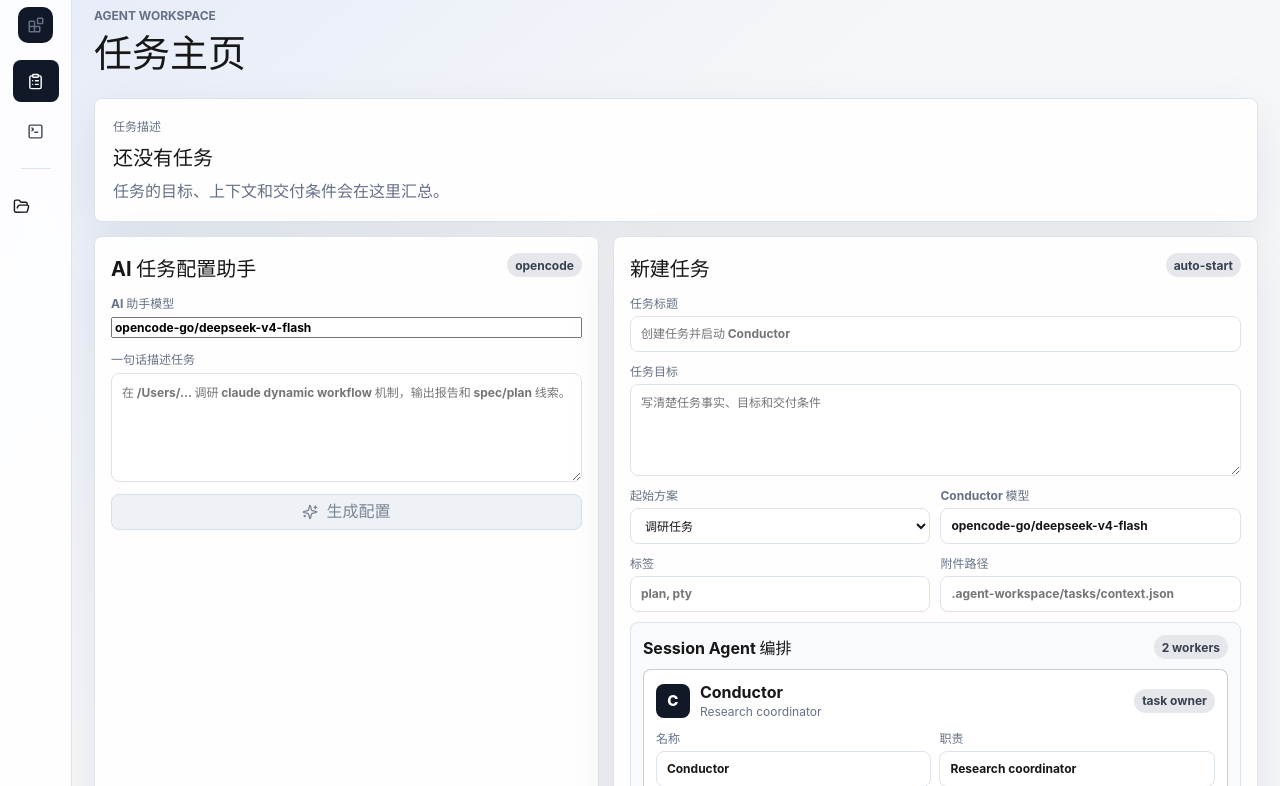
Test: App information architecture › records Task Home composer messages in the backend task runtime state and refreshes the conversation
Step 1. Type "连接 Task execution backend" into the field labelled "任务标题" → (935, 334), box [630,316,1241,352]
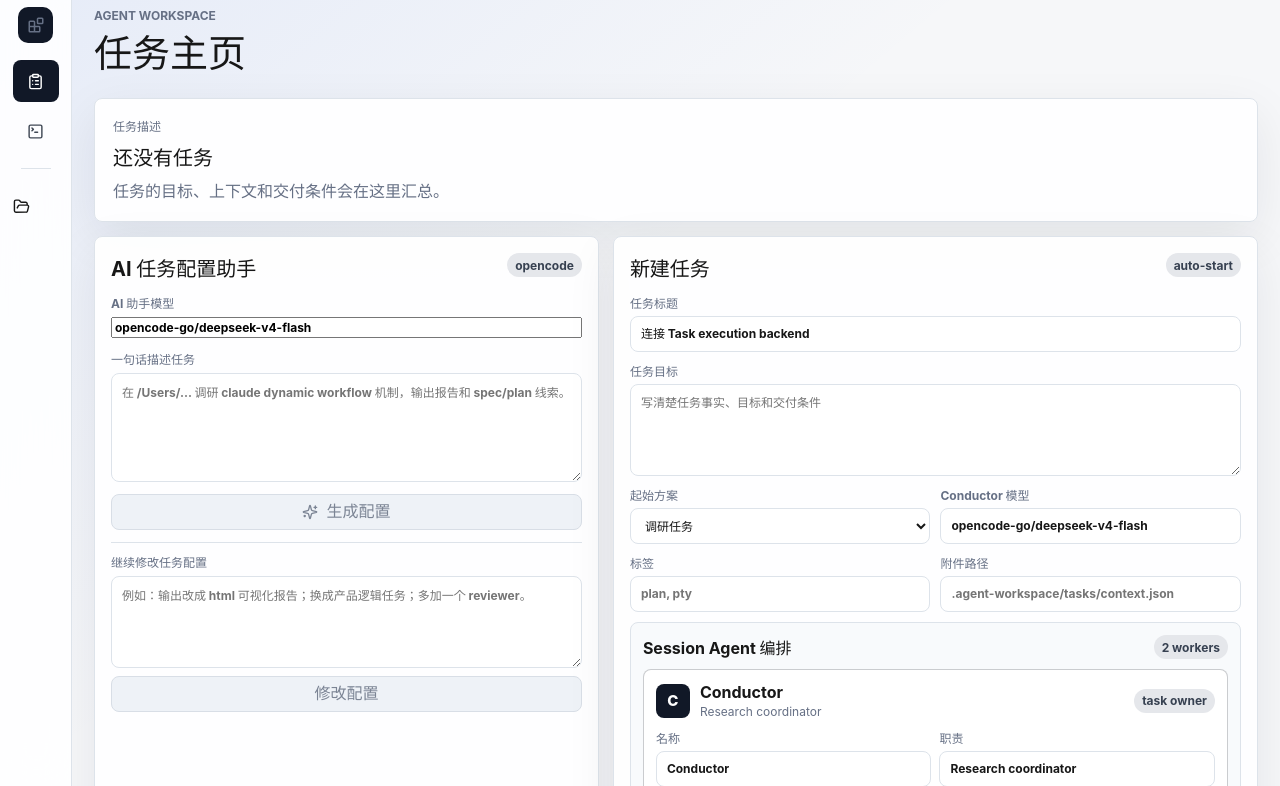
Step 2. Type "页面必须从 Session Store 读取执行事件，并把用户纠偏写回 Conductor。" into the text box labelled "任务目标" → (935, 430), box [630,384,1241,476]
Step 3. Select "代码实现任务" in the dropdown labelled "起始方案" → (780, 526), box [630,508,930,544]
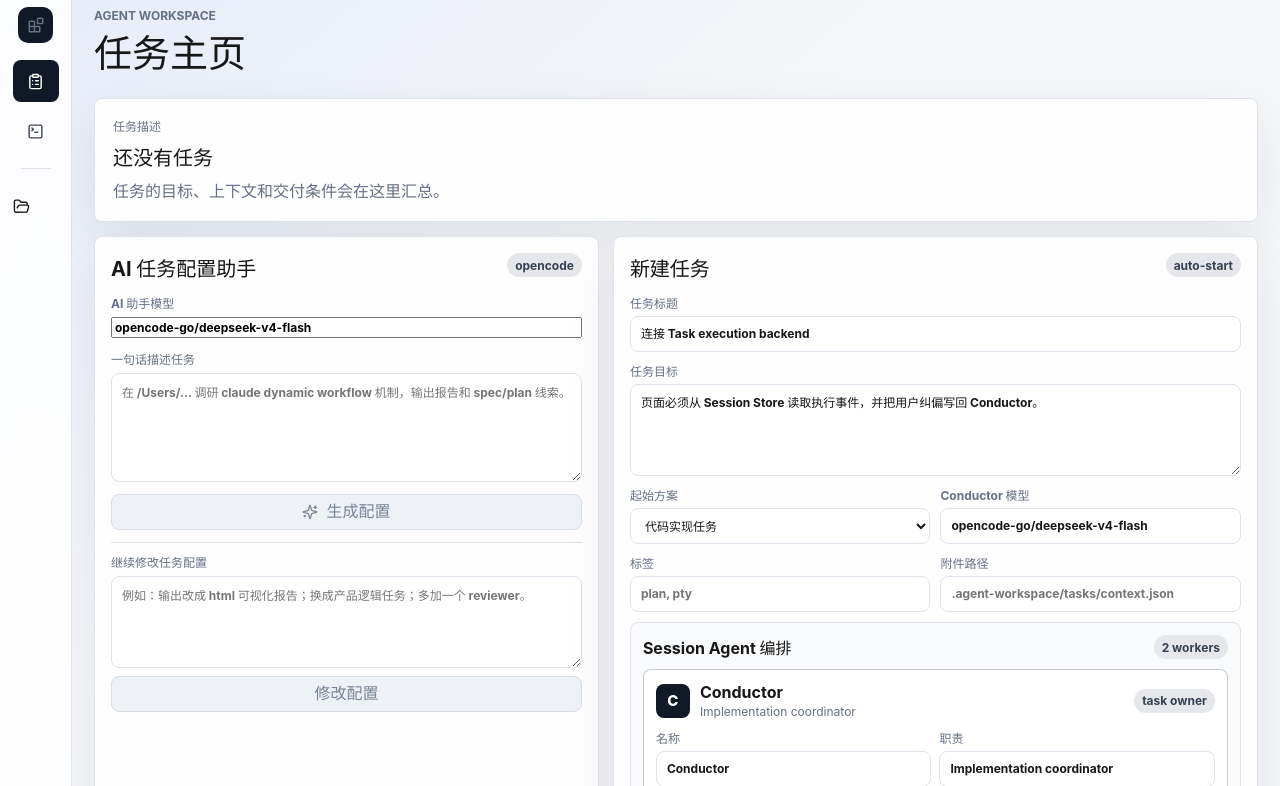
Step 4. Type "runtime, opencode" into the field named "任务标签" → (780, 594), box [630,576,930,612]
(page scrolled)
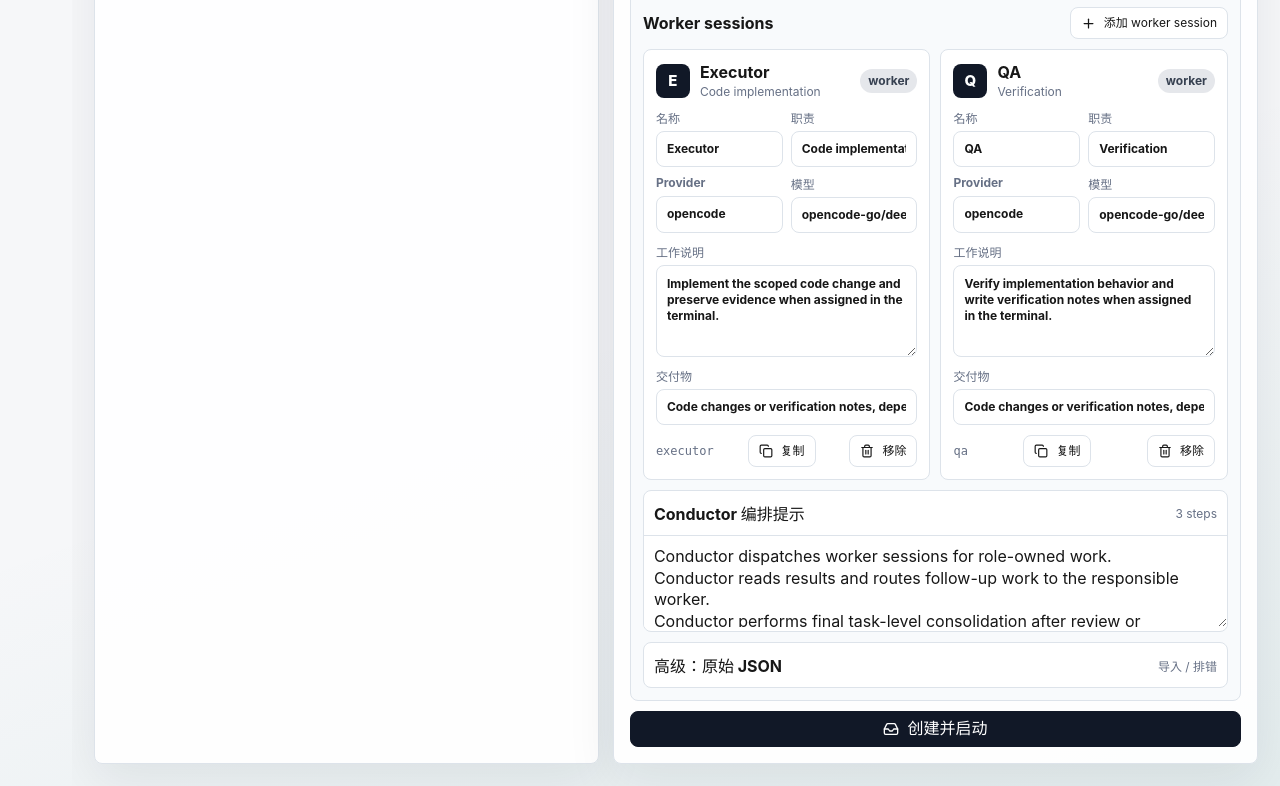
Step 5. Click the button "创建并启动" → (935, 729), box [630,711,1241,747]
(page scrolled)
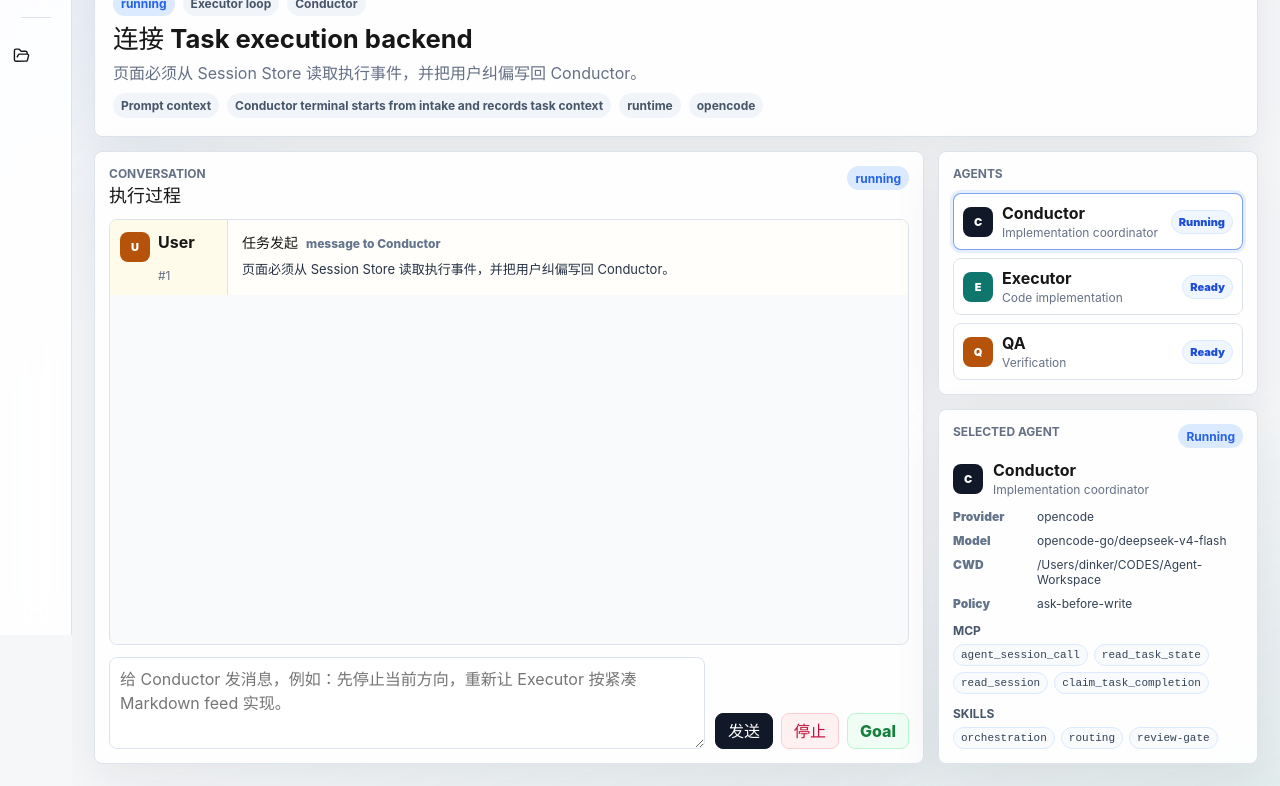
Step 6. Replace the text in the text box named "发送给 Conductor" with "后端纠偏消息：重新派发 Executor 并补 e2e。" → (407, 703), box [109,657,705,749]
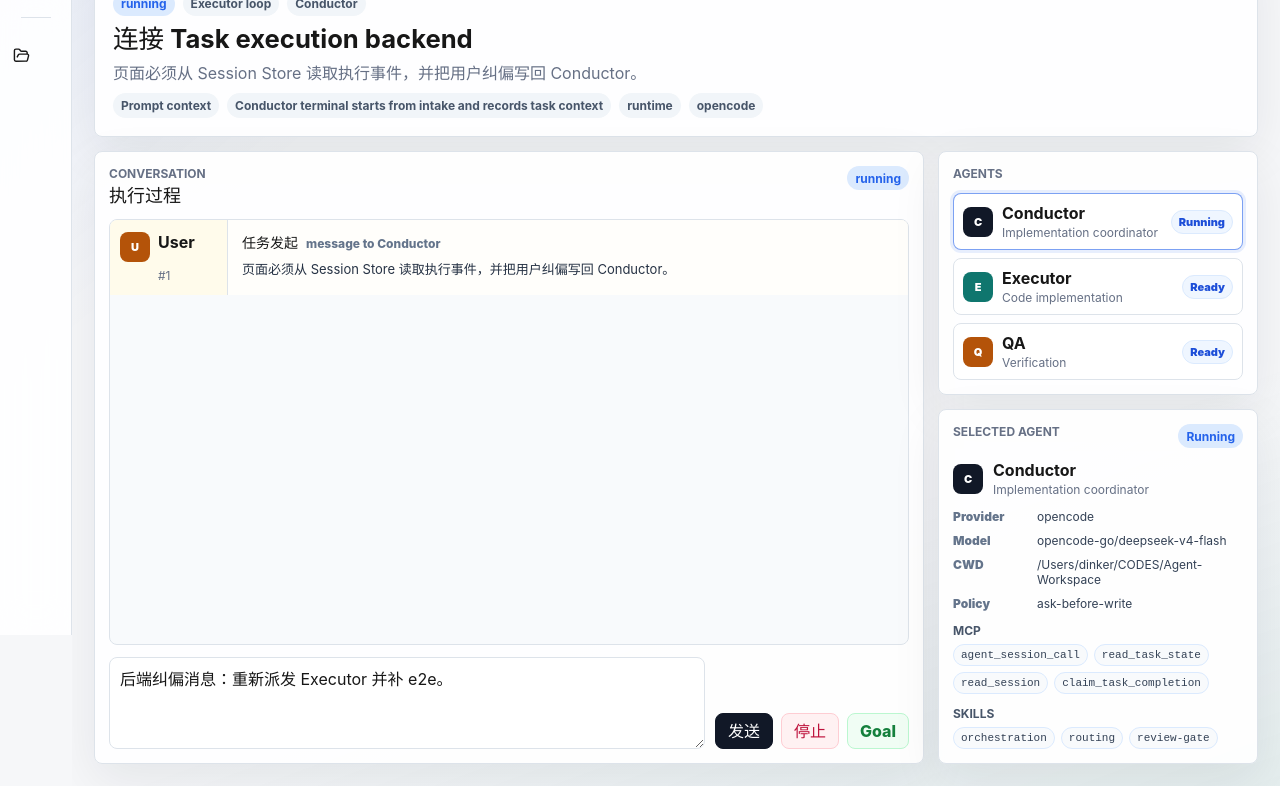
Step 7. Click the button "发送" → (744, 731), box [715,713,773,749]
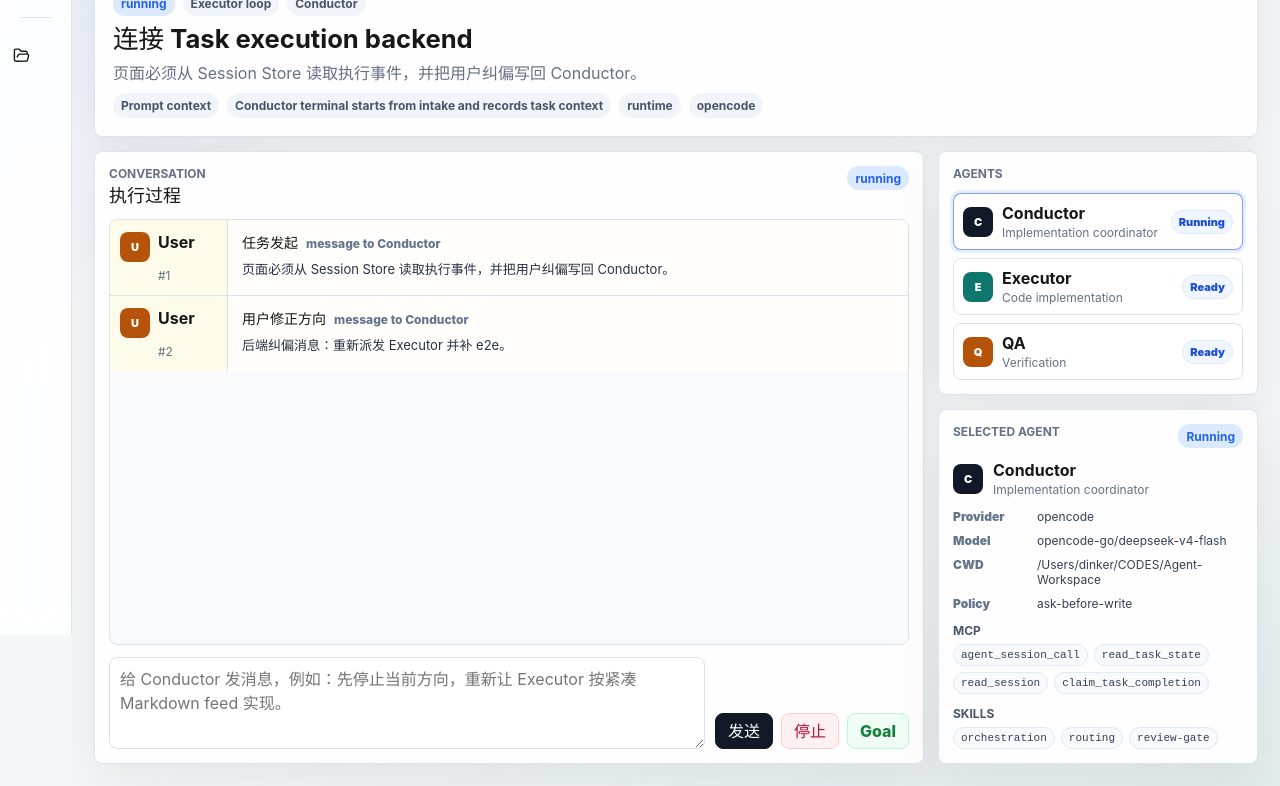
Expected: the text "后端纠偏消息：重新派发 Executor 并补 e2e。" is shown, [242,337,512,353]
